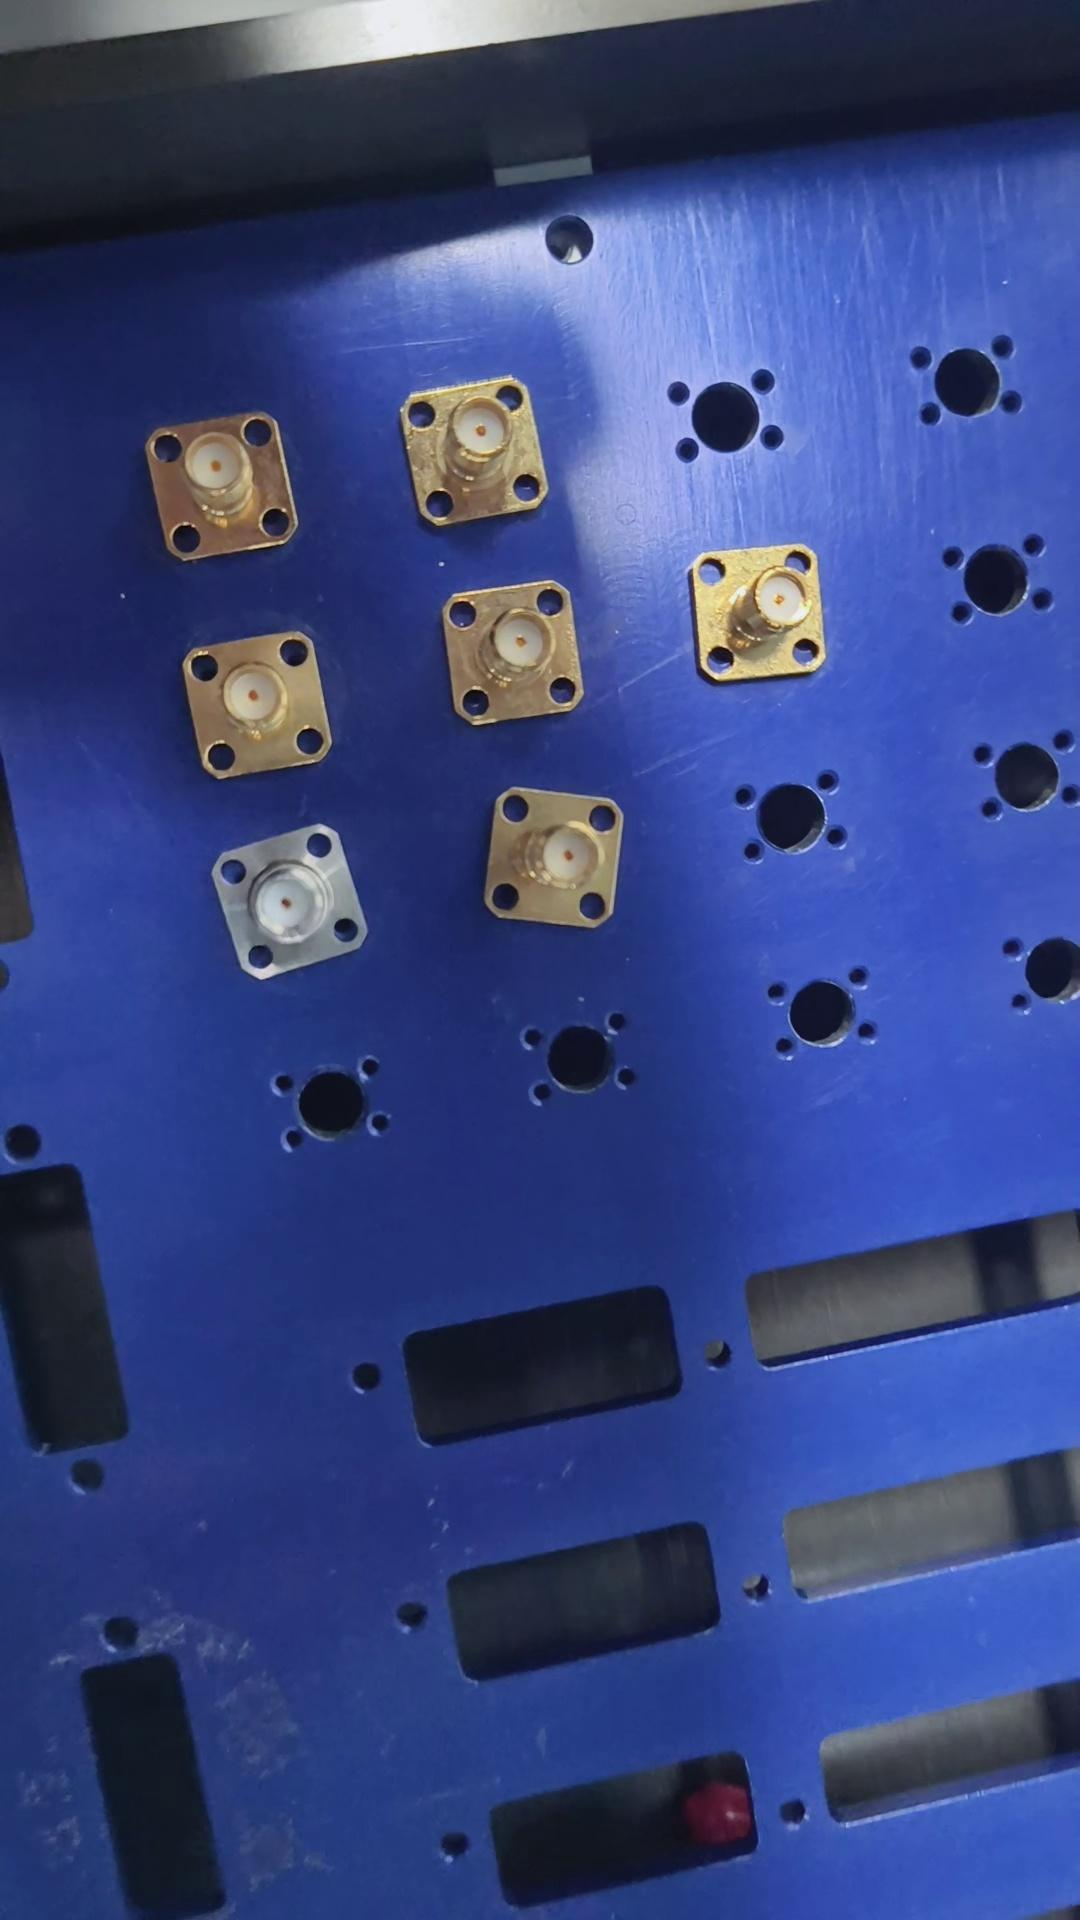SMA: (169, 628, 345, 781), (214, 818, 378, 978), (483, 785, 641, 938), (145, 419, 309, 560), (440, 576, 591, 728), (407, 380, 559, 527), (691, 535, 831, 694)
